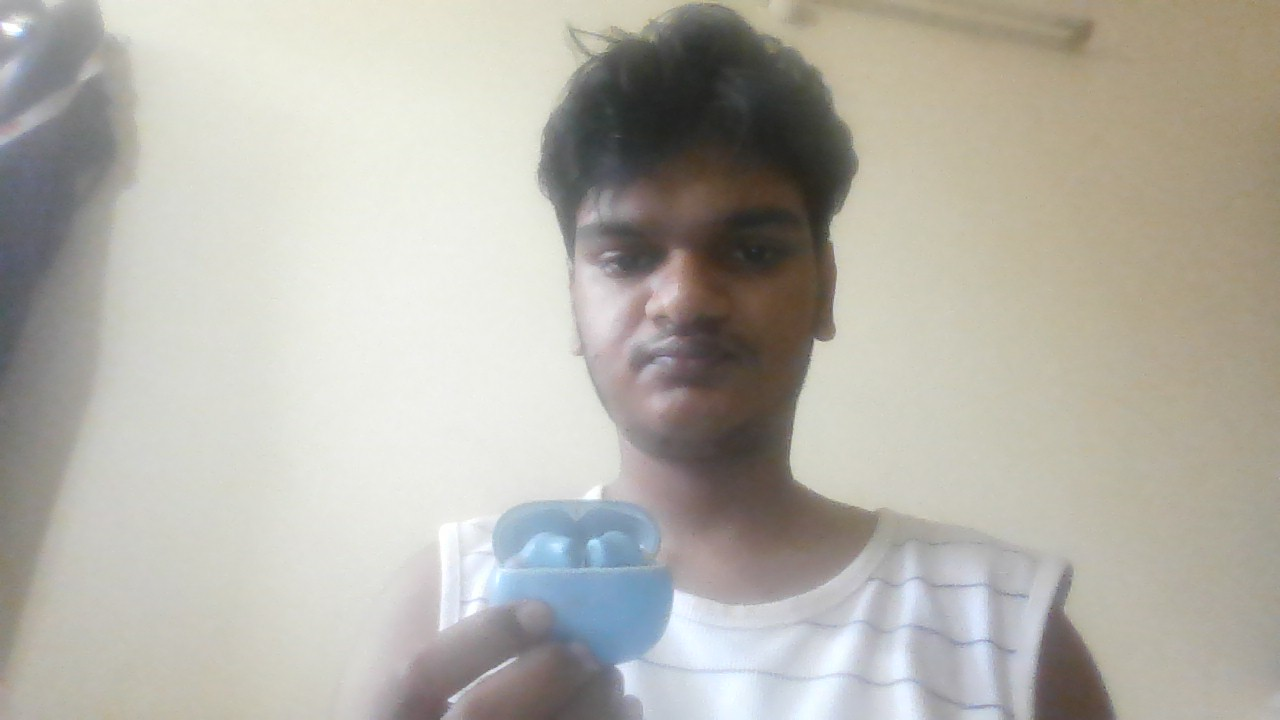earphone: (487, 510, 671, 637)
